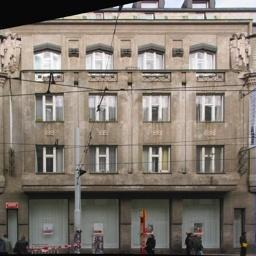building: (0, 0, 256, 256)
